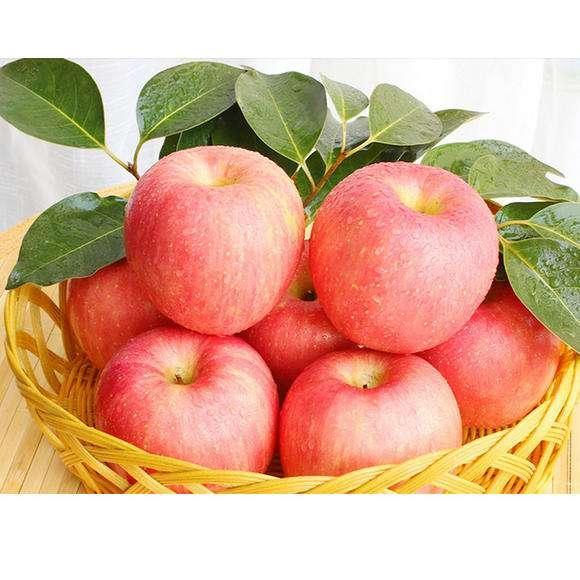apple: (306, 161, 499, 352), (122, 144, 306, 334), (91, 328, 276, 467), (277, 349, 462, 480), (421, 280, 572, 434)
